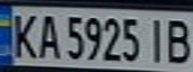2: (100, 14, 124, 63)
5: (60, 12, 84, 61), (121, 14, 145, 63)
9: (81, 14, 106, 62)
A: (33, 10, 60, 60)
B: (160, 16, 193, 64)
I: (142, 15, 169, 64)
K: (6, 10, 42, 60)
